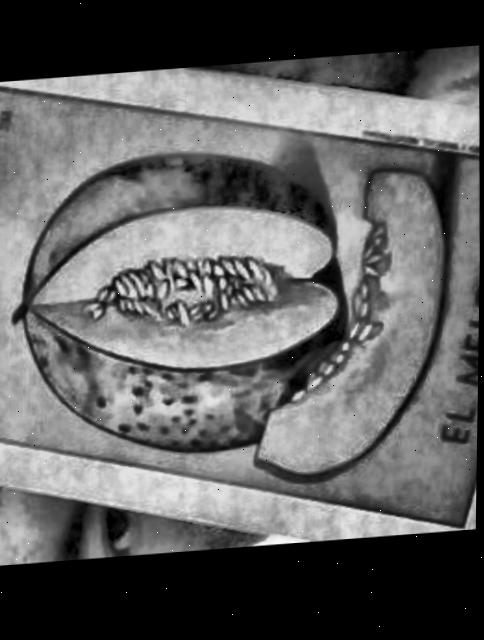El Melon: (0, 87, 480, 533)
